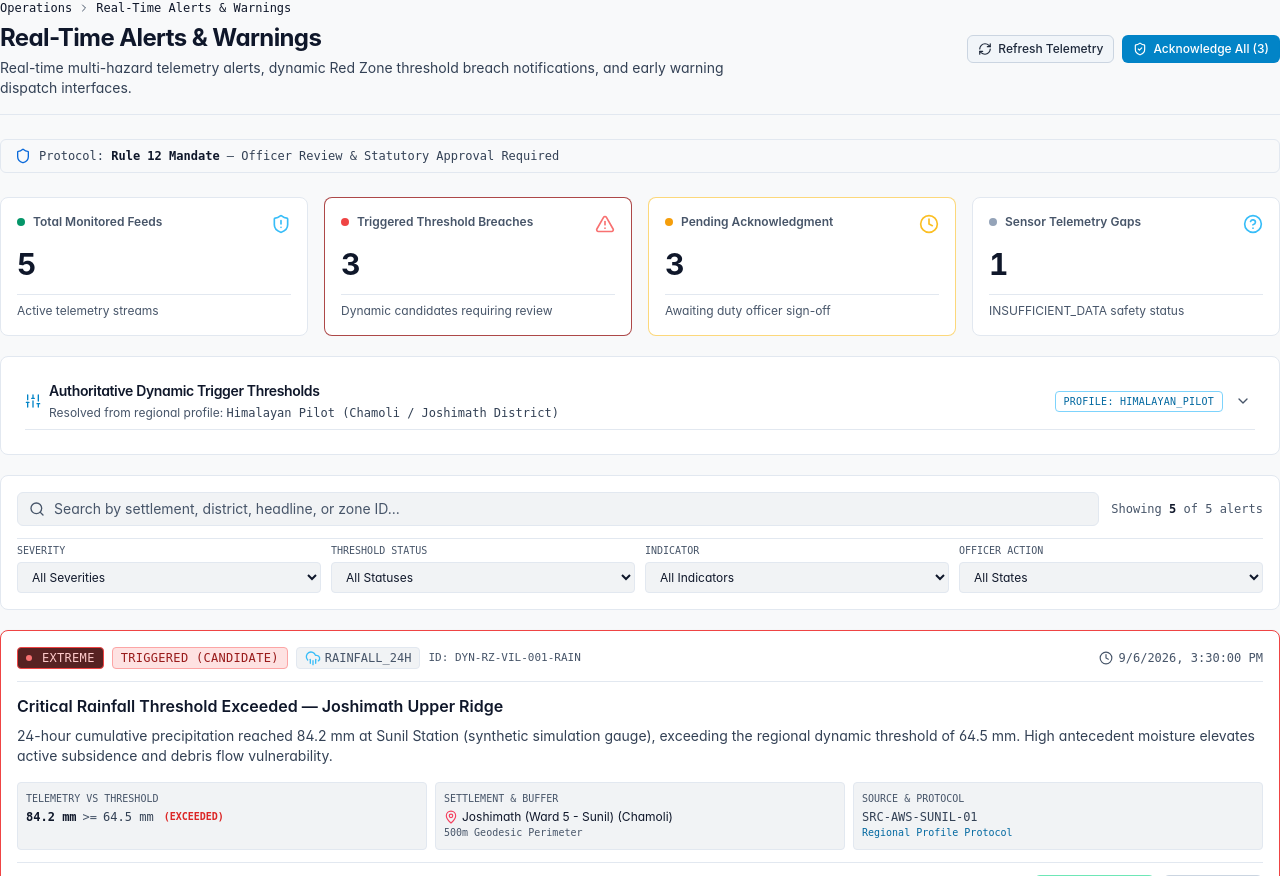
Real-Time Alerts & Threshold Warnings UI Suite (Chunk M6-05) › Officer Acknowledgment Flow › executes bulk Acknowledge All action from action toolbar
The width and height of the screenshot is (1280, 876).
Expected: the heading "Critical Rainfall Threshold Exceeded — Joshimath Upper Ridge" is shown, [17,696,503,716]
Click the button "Acknowledge All (3)": (1201,49) [1122,35,1279,63]
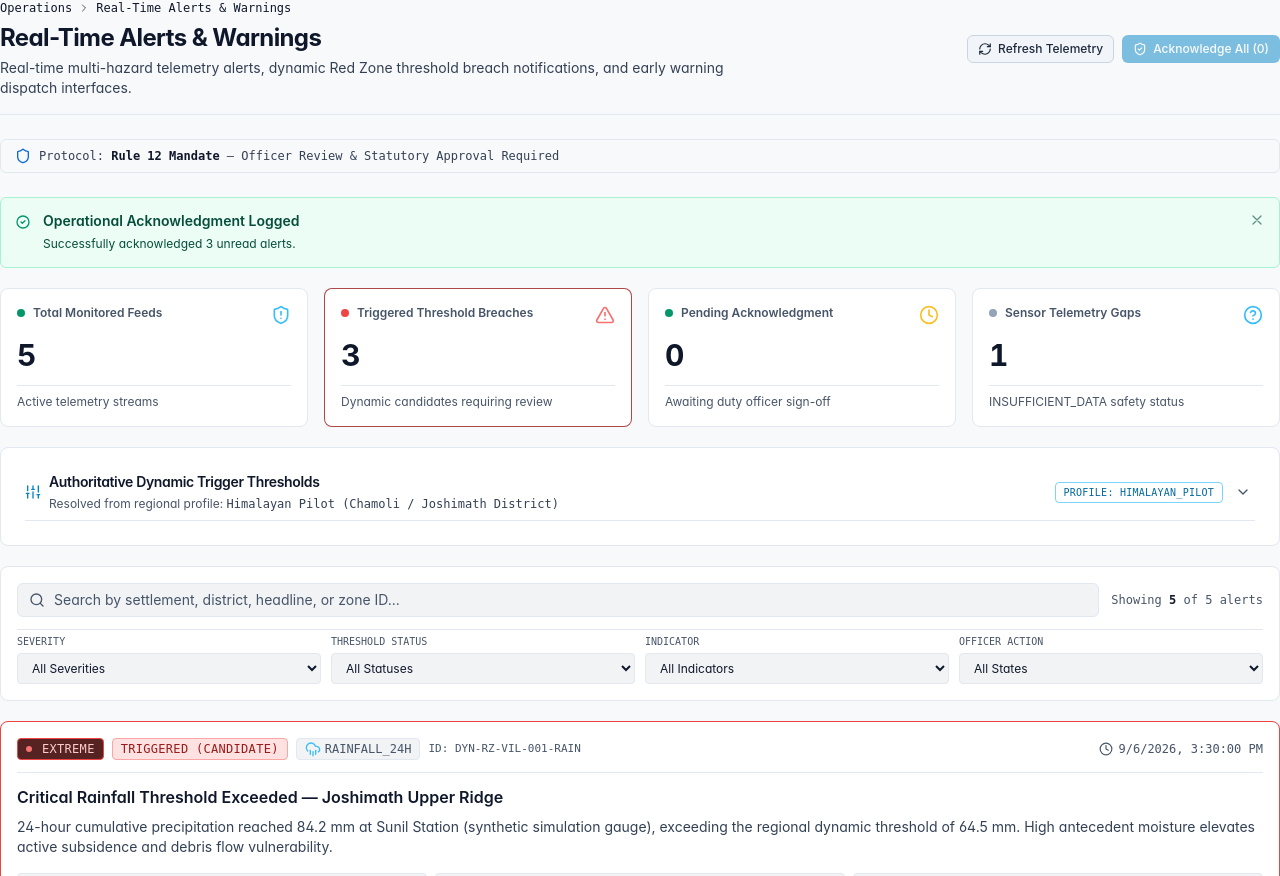
Expected: the text "Successfully acknowledged 3 unread alerts." is shown, [43,236,296,250]
Expected: the button "Acknowledge All (0)" is disabled, [1122,35,1279,63]
